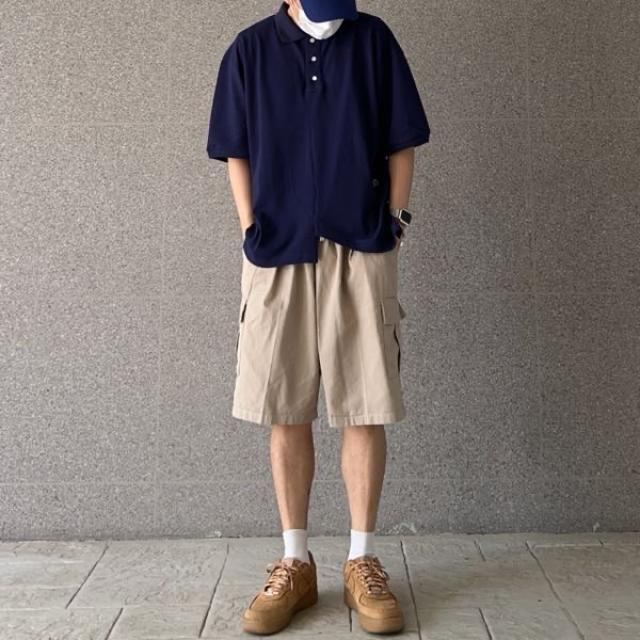shortpants: (232, 232, 408, 432)
shortsleeve: (204, 1, 430, 266)
